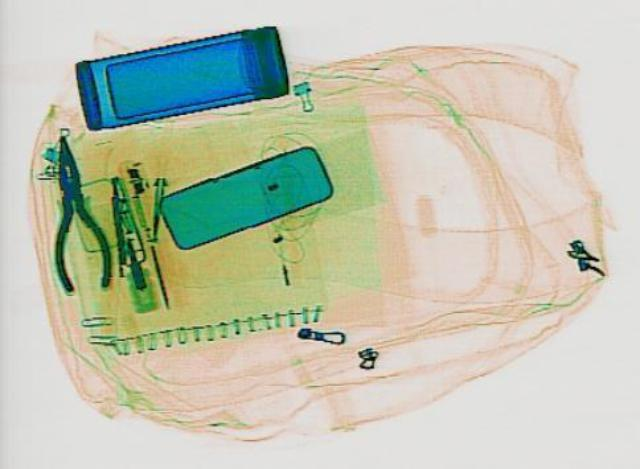Pliers: (34, 133, 114, 290)
